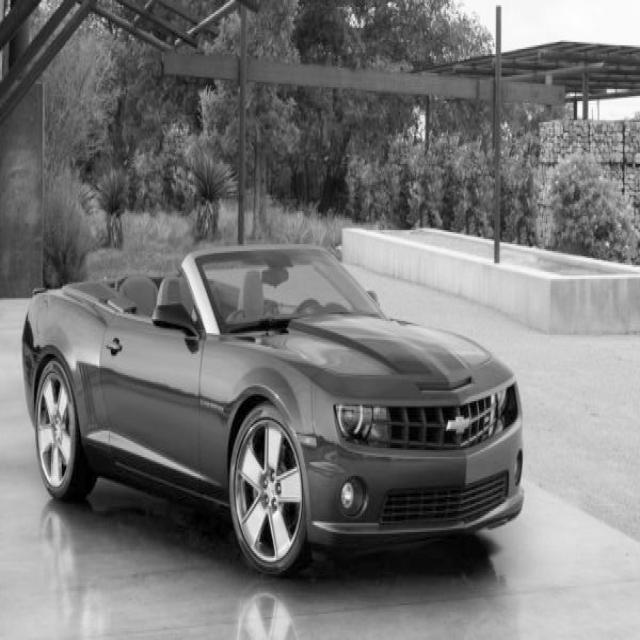car: (20, 241, 525, 577)
